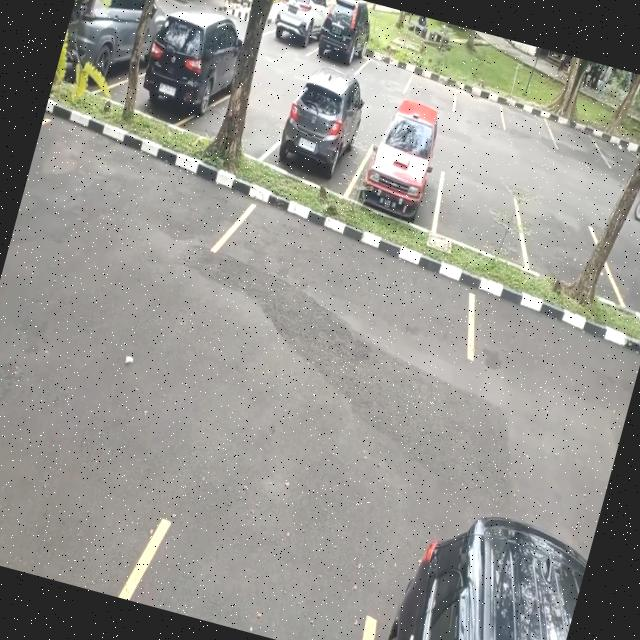empty: (203, 194, 494, 364), (508, 198, 622, 294), (426, 170, 529, 256), (547, 109, 614, 162), (358, 40, 417, 94), (496, 96, 558, 147), (448, 80, 508, 130), (602, 239, 640, 316), (404, 66, 464, 110)
occupied: (127, 20, 240, 138), (348, 112, 455, 228), (266, 76, 372, 190), (310, 11, 373, 74), (264, 0, 329, 57)
